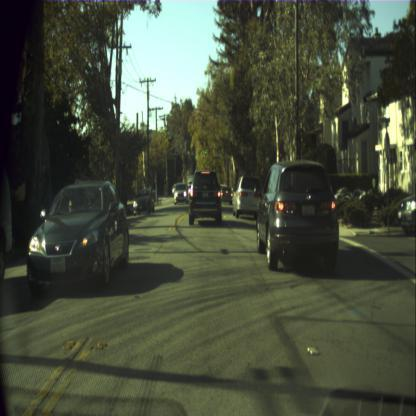Green: (204, 148, 206, 154)
